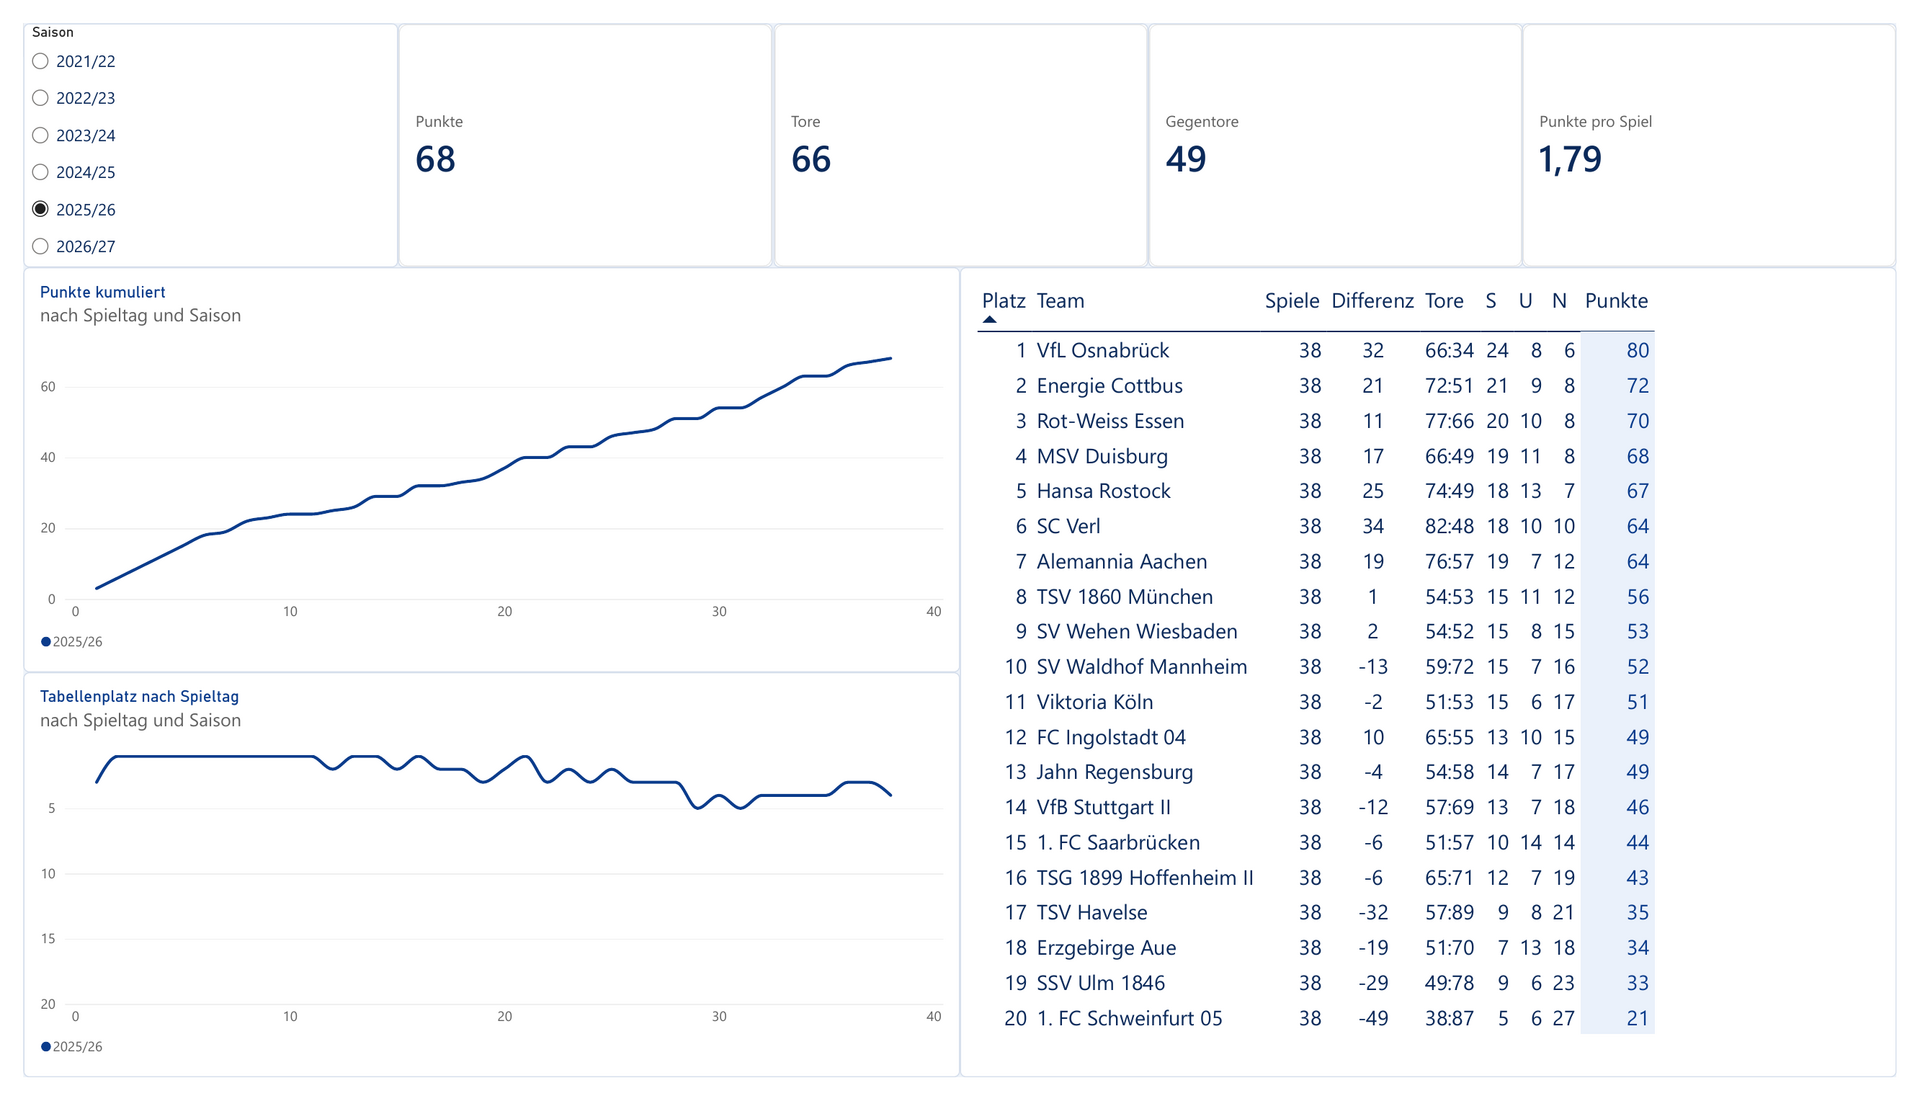

The page's visual inventory and layout, read from the dashboard file:
{"tool":"powerbi","page":{"name":"Saisonübersicht","canvas":[1920,1080],"ordinal":0},"visuals":[{"type":"slicer","fields":{"Values":["dim_season.season_label"]},"box":[0,0,384,250],"z":0},{"type":"cardVisual","fields":{"Data":["fact_team_match.Punkte"]},"box":[384.3,0,384,250],"z":1000},{"type":"cardVisual","fields":{"Data":["fact_team_match.Tore"]},"box":[768.6,0,384,250],"z":2000},{"type":"cardVisual","fields":{"Data":["fact_team_match.Gegentore"]},"box":[1152.9,0,384,250],"z":3000},{"type":"cardVisual","fields":{"Data":["fact_team_match.Punkte pro Spiel"]},"box":[1535.7,0,384,250],"z":4000},{"type":"lineChart","title":"Punkte kumuliert","fields":{"Category":["fact_team_match.matchday"],"Series":["dim_season.season_label"],"Y":["fact_team_match.Punkte kumuliert"]},"box":[0,250,960,415],"z":5000},{"type":"tableEx","fields":{"Values":["v_season_table.table_rank","v_season_table.team_name","v_season_table.played","v_season_table.goal_diff","v_season_table.Tore","v_season_table.wins","v_season_table.draws","v_season_table.losses","v_season_table.points"]},"box":[960,250,958.3,828.3],"z":6000},{"type":"lineChart","title":"Tabellenplatz nach Spieltag","fields":{"Category":["v_rank_by_matchday.matchday"],"Series":["dim_season.season_label"],"Y":["Sum(v_rank_by_matchday.table_rank)"]},"box":[0,665,960,413.3],"z":7000}]}

Visuals, with their boxes in screenshot pixels (x1, y1, x2, y2), scaled from the page's 1920x1080 canvas onto the 1920x1101 screenshot:
slicer - dim_season.season_label: left=0, top=0, right=384, bottom=255
cardVisual - fact_team_match.Punkte: left=384, top=0, right=768, bottom=255
cardVisual - fact_team_match.Tore: left=769, top=0, right=1153, bottom=255
cardVisual - fact_team_match.Gegentore: left=1153, top=0, right=1537, bottom=255
cardVisual - fact_team_match.Punkte pro Spiel: left=1536, top=0, right=1919, bottom=255
"Punkte kumuliert" lineChart: left=0, top=255, right=960, bottom=678
tableEx - v_season_table.table_rank x v_season_table.team_name: left=960, top=255, right=1918, bottom=1099
"Tabellenplatz nach Spieltag" lineChart: left=0, top=678, right=960, bottom=1099
